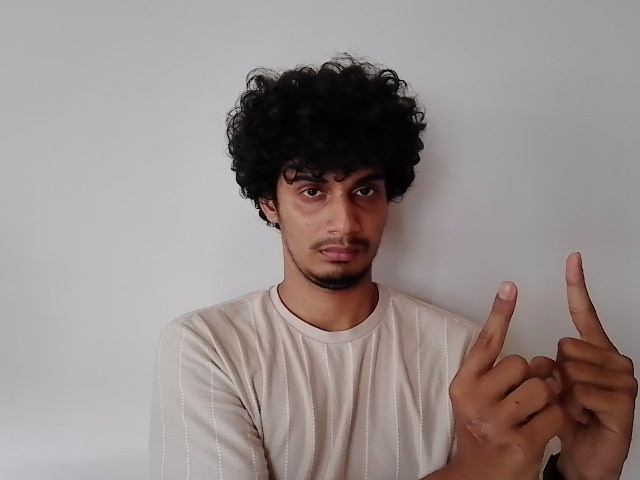play: (446, 249, 639, 480)
